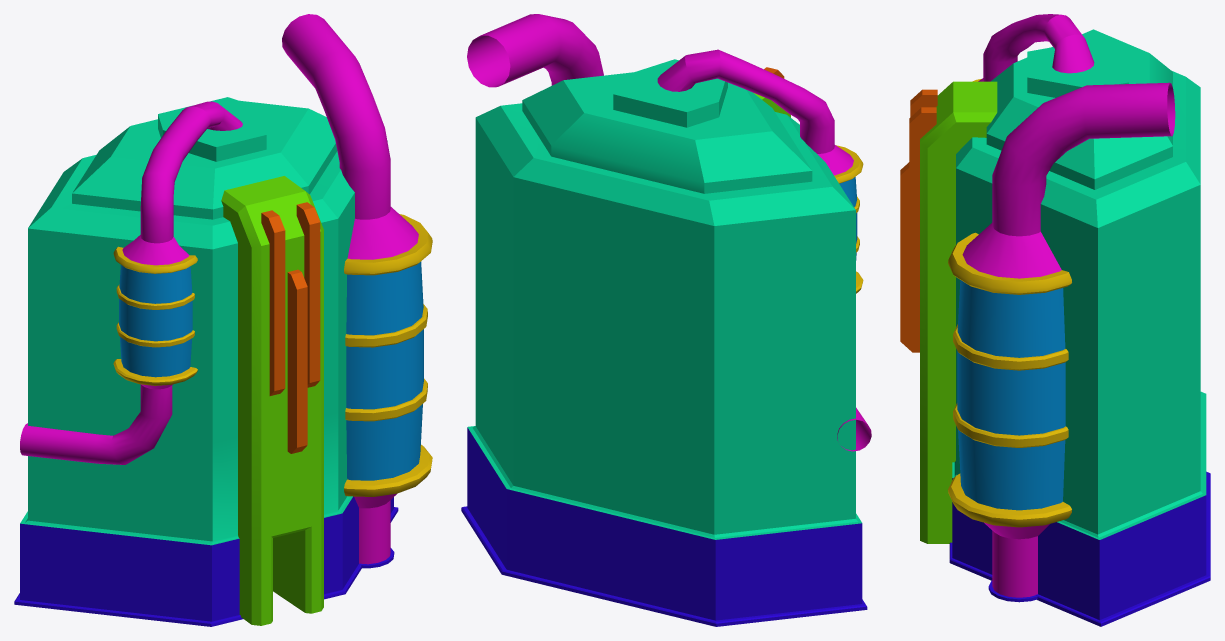
File: Centrale_Elettrica.fbx
The picture shows the model from 3 angles, left to right: view 1: azimuth 30°, elevation 25°; view 2: azimuth 150°, elevation 25°; view 3: azimuth 270°, elevation 25°; orthographic projection. The views are drawn at different scales.
Visible parts, largest first — view 1: Cube.148; view 2: Cube.148; view 3: Cube.148.
Boxes of the visible parts, x1,y1,x2,y2 form: Cube.148: [14, 14, 432, 626]; Cube.148: [461, 14, 871, 626]; Cube.148: [900, 14, 1210, 626].
Bounding box in the file's own units: 6503 × 7886 × 4337.
